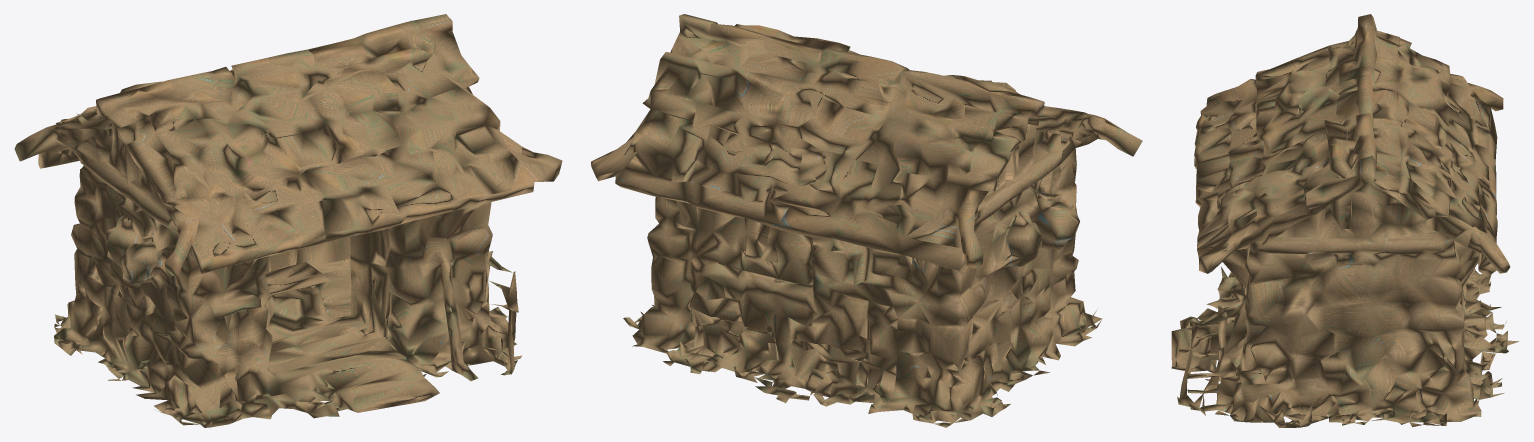
Rendered from cloud_runner_port_cumulusHut.091fb62e.glb.
3 renders of one model, left to right at view 1: azimuth 30°, elevation 25°; view 2: azimuth 150°, elevation 25°; view 3: azimuth 270°, elevation 25°, orthographic. The views are drawn at different scales.
Size of the model in its own units: 1.9 by 1.29 by 1.58.
Materials: 1 (1 with a texture image).
